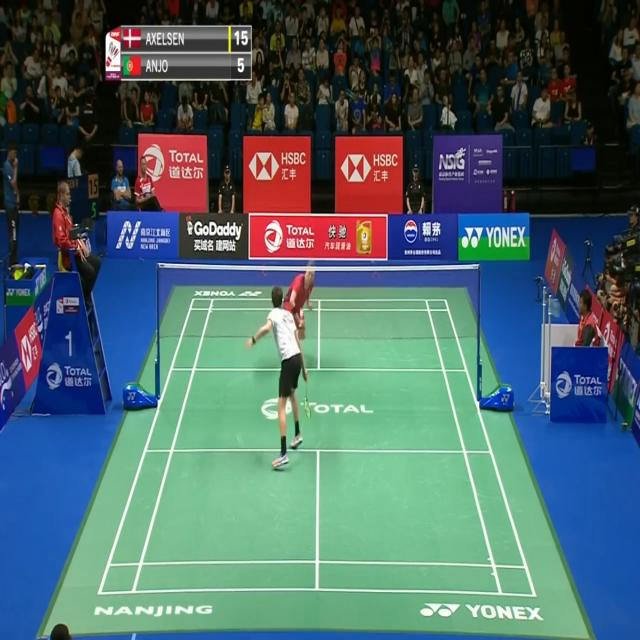Player1: (245, 285, 308, 472)
Player2: (283, 257, 319, 355)
